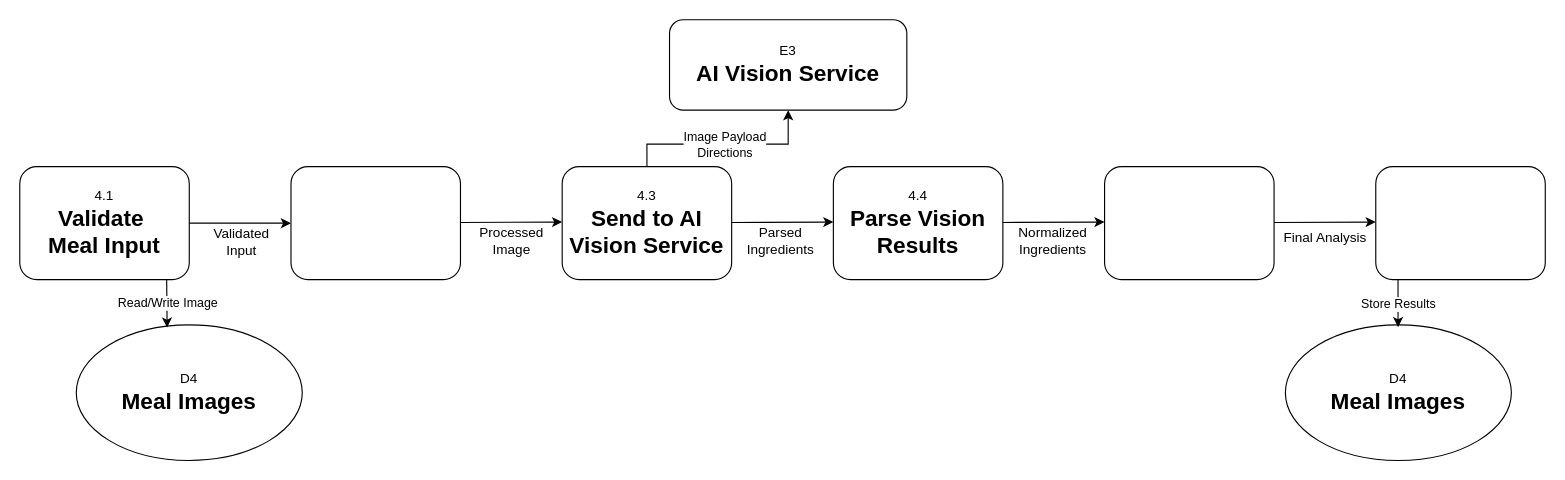
The diagram is 1565 pixels wide and 480 high, and some of its shapes have lost their labels. The shapes that lost their labels are listed below. From the top down, each one's box as (x1, y1, x2, y2) in pixels, then its label:
(290, 166, 460, 280): 4.2 Pre-Process Image
(1103, 166, 1274, 280): 4.5 Normalize Ingredients
(1375, 166, 1545, 280): 4.6 Store Analysis Resuts
